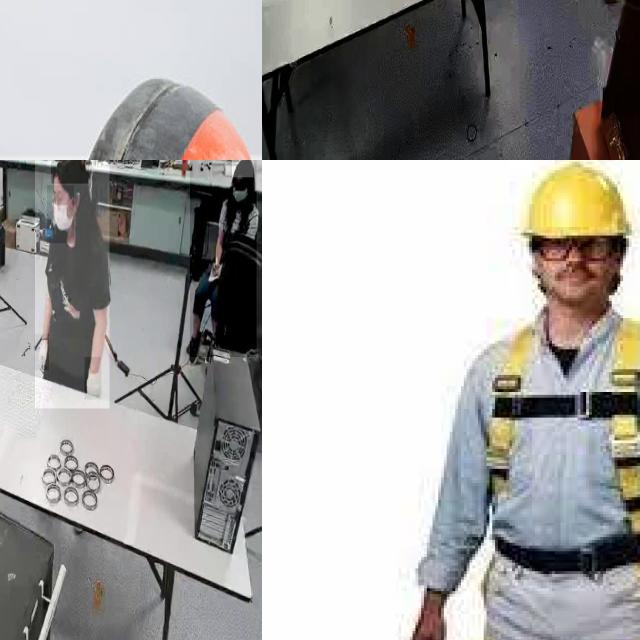Ear-protection: (0, 46, 262, 160)
Harness: (481, 317, 640, 640)
face_mask: (47, 185, 74, 243), (234, 179, 248, 210)
hand_glove: (84, 357, 102, 400), (34, 334, 50, 371)
hand_noglove: (212, 258, 220, 276)
head_nohelmet: (51, 160, 90, 184), (232, 160, 254, 178)
person: (35, 160, 110, 409), (190, 160, 257, 357)
